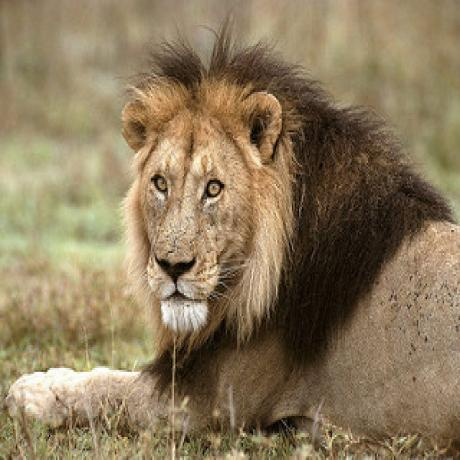Lion: (8, 47, 460, 452)
